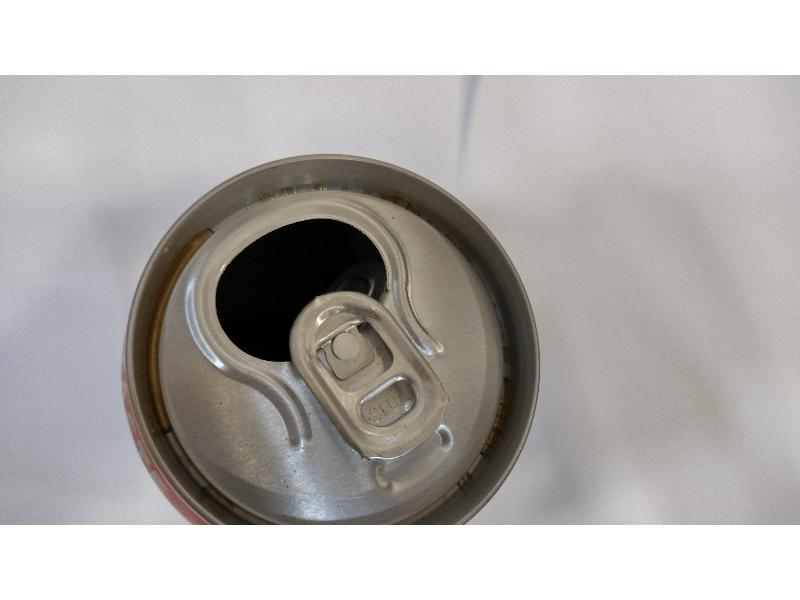can: (107, 151, 542, 534)
